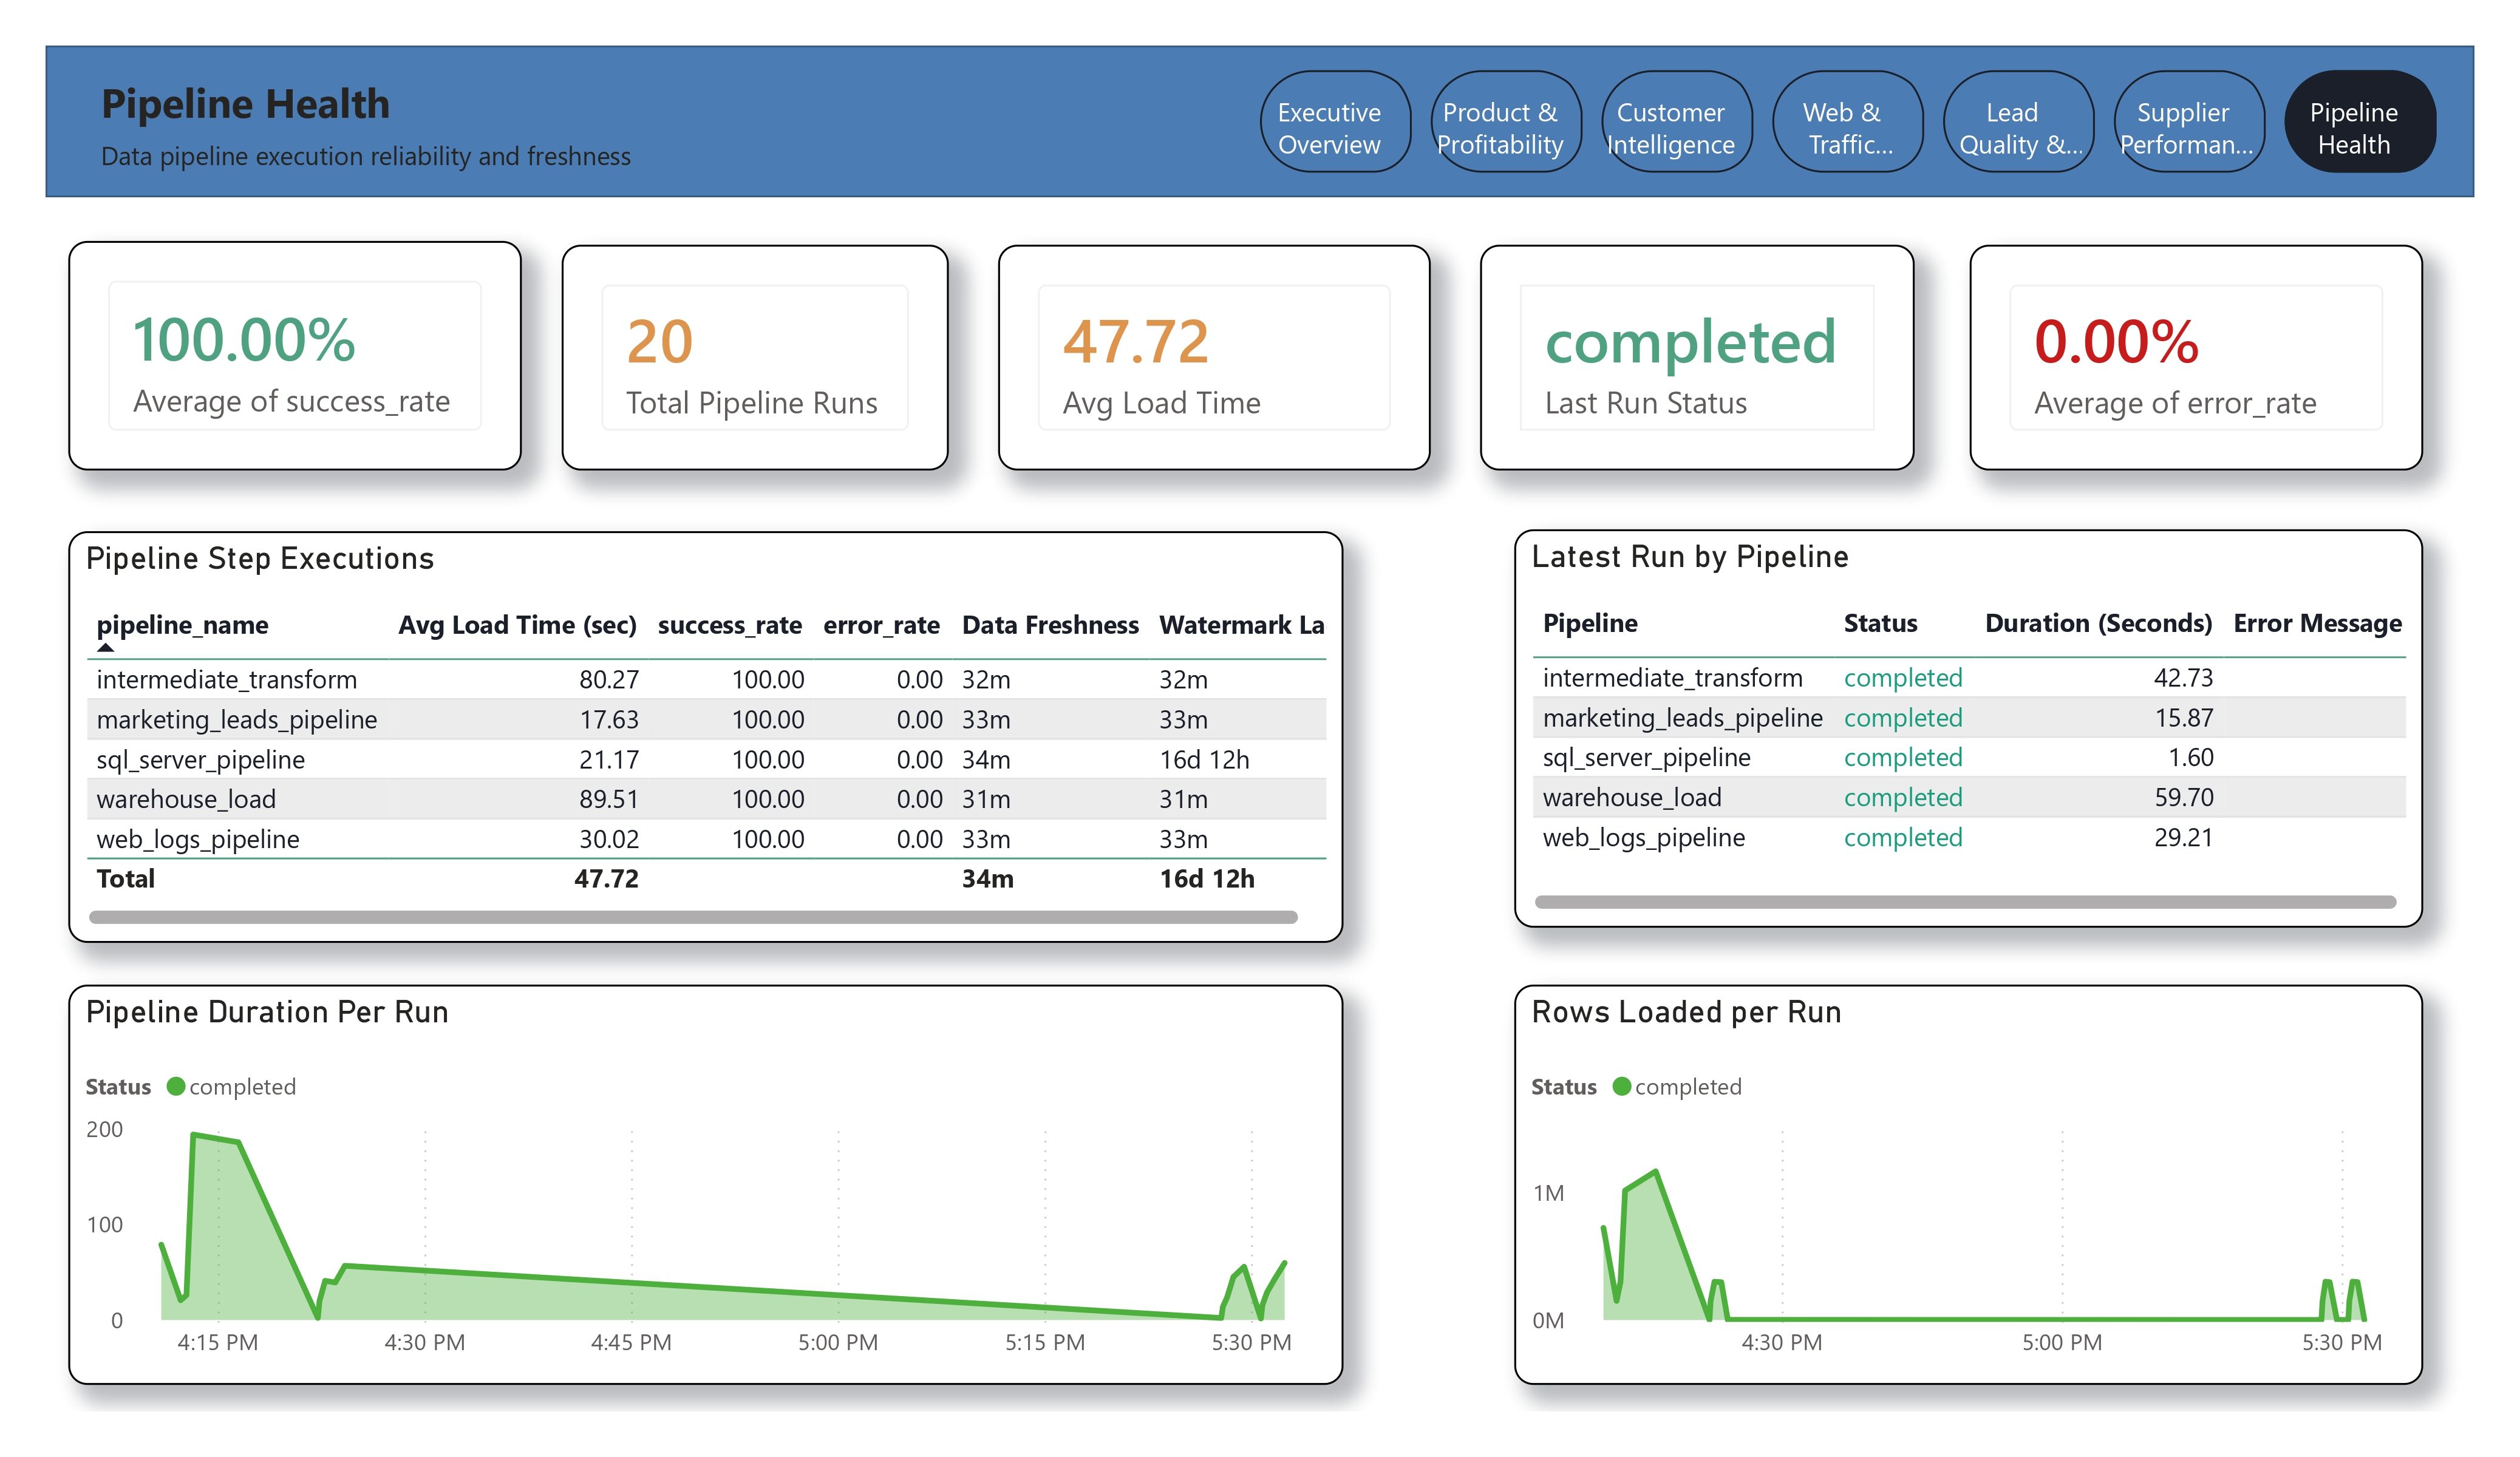

The page's visual inventory and layout, read from the dashboard file:
{"tool":"powerbi","page":{"name":"Pipeline Health","canvas":[1280,720],"ordinal":6},"visuals":[{"type":"shape","box":[0,0,1280,80],"z":0},{"type":"tableEx","title":"Pipeline Step Executions","fields":{"Values":["marts vw_pipeline_execution_metrics.pipeline_name","Average(marts vw_pipeline_execution_metrics.avg_load_time)","marts vw_pipeline_execution_metrics.success_rate","marts vw_pipeline_execution_metrics.error_rate","Measure.Data Freshness (Formatted)","Measure.Watermark Lag (Formatted)"]},"box":[11.6,255.8,672.1,217.4],"z":1000},{"type":"cardVisual","fields":{"Data":["Avg(marts vw_pipeline_execution_metrics.success_rate)"]},"box":[11.6,103.5,239.5,120.9],"z":2000},{"type":"cardVisual","fields":{"Data":["Average(marts vw_pipeline_execution_metrics.avg_load_time)"]},"box":[502.3,104.7,227.9,119.8],"z":3000},{"type":"cardVisual","fields":{"Data":["Average(marts vw_pipeline_execution_metrics.error_rate)"]},"box":[1014,104.7,239.5,119.8],"z":4000},{"type":"textbox","box":[24.4,10.5,566.3,52.3],"z":5000},{"type":"textbox","box":[24.4,44.2,550,36],"z":6000},{"type":"pageNavigator","box":[639.5,12.8,620.9,54.7],"z":7000},{"type":"cardVisual","fields":{"Data":["CountNonNull(marts vw_pipeline_run_history.run_id)"]},"box":[272.1,104.7,203.5,119.8],"z":8000},{"type":"cardVisual","fields":{"Data":["Measure.Last Run Status"]},"box":[755.8,104.7,229.1,119.8],"z":9000},{"type":"areaChart","title":"Pipeline Duration Per Run","fields":{"Category":["marts vw_pipeline_run_history.run_timestamp"],"Series":["marts vw_pipeline_run_history.status"],"Y":["Sum(marts vw_pipeline_run_history.duration_seconds)"]},"box":[11.6,495.4,672.1,210.5],"z":10000},{"type":"stackedAreaChart","title":"Rows Loaded per Run","fields":{"Category":["marts vw_pipeline_run_history.run_timestamp"],"Series":["marts vw_pipeline_run_history.status"],"Y":["Sum(marts vw_pipeline_run_history.rows_loaded)"]},"box":[774.4,495.4,479.1,210.5],"z":11000},{"type":"tableEx","title":"Latest Run by Pipeline","fields":{"Values":["marts vw_pipeline_latest_run.pipeline_name","marts vw_pipeline_latest_run.status","Sum(marts vw_pipeline_latest_run.duration_seconds)","marts vw_pipeline_latest_run.error_message"]},"box":[774.4,254.7,479.1,210.5],"z":12000}]}

Visuals, with their boxes in screenshot pixels (x1, y1, x2, y2):
shape: locate(59, 39, 2456, 189)
"Pipeline Step Executions" tableEx: locate(81, 518, 1340, 925)
cardVisual - Avg(marts vw_pipeline_execution_metrics.success_rate): locate(81, 233, 530, 460)
cardVisual - Average(marts vw_pipeline_execution_metrics.avg_load_time): locate(999, 236, 1426, 460)
cardVisual - Average(marts vw_pipeline_execution_metrics.error_rate): locate(1958, 236, 2406, 460)
textbox: locate(105, 59, 1165, 157)
textbox: locate(105, 122, 1135, 189)
pageNavigator: locate(1257, 63, 2419, 166)
cardVisual - CountNonNull(marts vw_pipeline_run_history.run_id): locate(568, 236, 950, 460)
cardVisual - Measure.Last Run Status: locate(1474, 236, 1904, 460)
"Pipeline Duration Per Run" areaChart: locate(81, 967, 1340, 1361)
"Rows Loaded per Run" stackedAreaChart: locate(1510, 967, 2406, 1361)
"Latest Run by Pipeline" tableEx: locate(1510, 516, 2406, 911)
